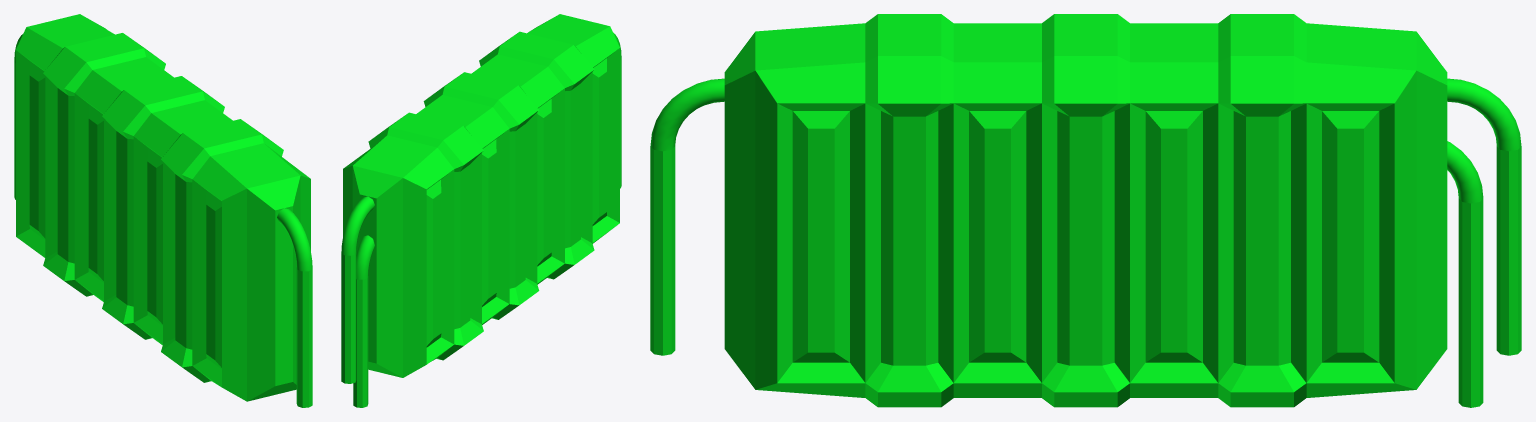
Rendered from radiator.FBX.
3 views of the same model, side by side, from view 1: azimuth 30°, elevation 25°; view 2: azimuth 150°, elevation 25°; view 3: azimuth 270°, elevation 25° (orthographic). The views are drawn at different scales.
Visible parts, largest first — view 1: Box001, Torus002, Torus001; view 2: Box001, Torus001, Torus003, Torus002; view 3: Box001, Torus001, Torus002, Torus003.
Boxes of the visible parts, box(x1,y1,x2,y2) form: Box001: box(16, 14, 310, 401); Torus002: box(277, 208, 312, 407); Torus001: box(14, 34, 22, 199); Box001: box(343, 14, 619, 377); Torus001: box(341, 196, 374, 383); Torus003: box(353, 235, 374, 407); Torus002: box(613, 32, 621, 188); Box001: box(724, 14, 1447, 407); Torus001: box(1447, 78, 1521, 355); Torus002: box(650, 78, 724, 355); Torus003: box(1447, 141, 1483, 407).
Bounding box in the file's own units: 22.48 × 51.74 × 111.
